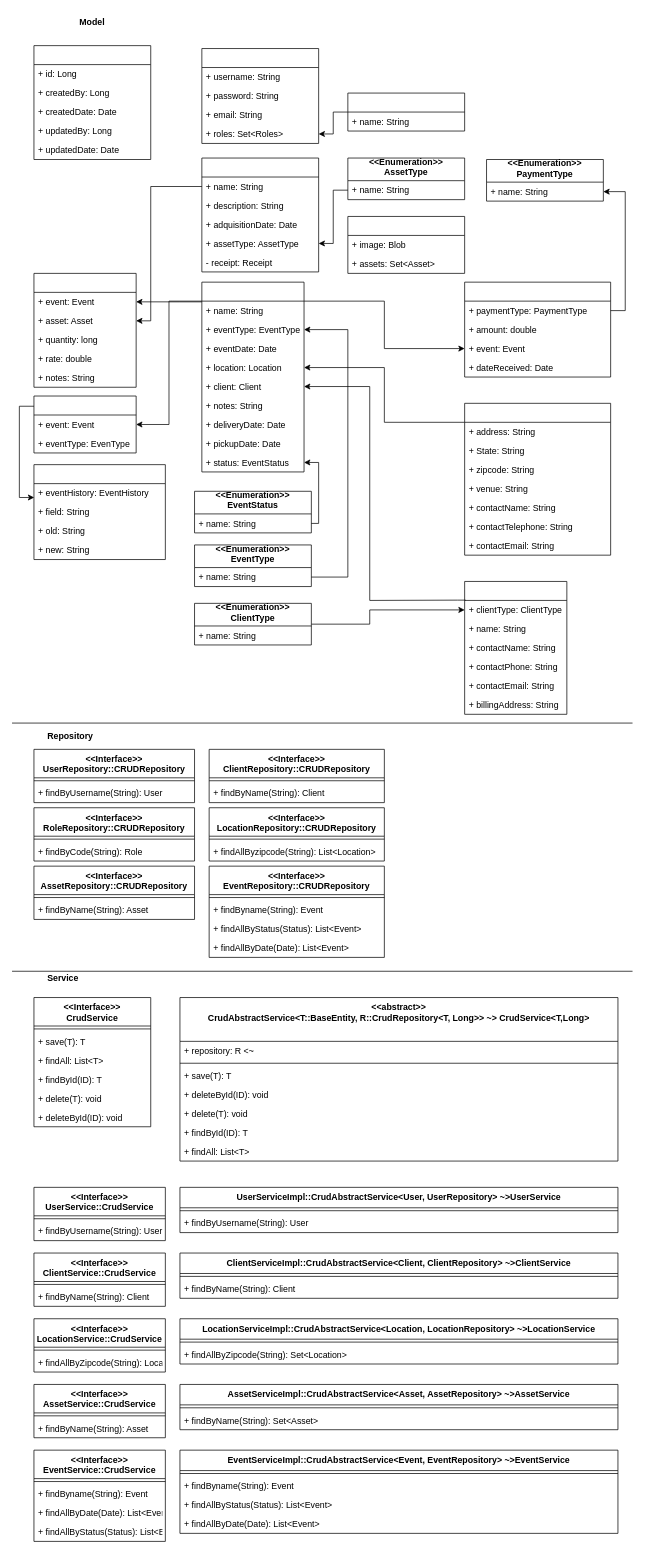
Image size: 645x1553. Some labels were removed from this diagram. The shapes that lost their labels are listed below. From the top down, each one's box as (x1, y1, x2, y2) in pixels, then its label:
(33, 45, 151, 160): BaseEntity
(201, 48, 319, 143): Person::BaseEntity
(347, 92, 465, 131): Roles::BaseEntity
(201, 157, 319, 272): Asset::BaseEntity
(347, 216, 465, 273): Receipt::BaseEntity
(33, 273, 136, 387): EventAsset::BaseEntity
(464, 281, 611, 377): Payment::BaseEntity
(201, 281, 304, 472): Event::BaseEntity
(33, 395, 136, 453): EventHistory::BaseEntity
(464, 403, 611, 555): Location::BaseEntity
(33, 464, 165, 560): EventHistoryDetail::BaseEntity
(464, 581, 567, 714): Client::BaseEntity
